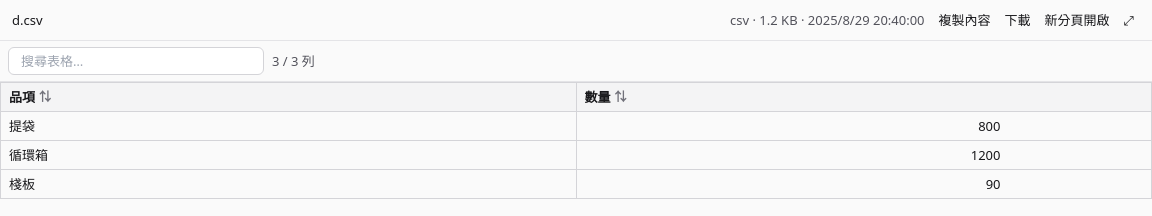
Test: FilePreview 各格式 › csv：可搜尋、可排序、數字欄右對齊
# 依「數量」排序（數字比較，不是字串比較）
Click the button "數量 ⇅" at (598, 97), box [584, 87, 1143, 107]
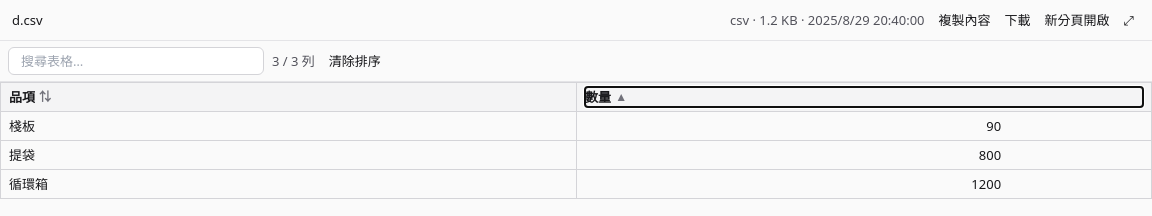
Click the button "數量 ▲" at (598, 97), box [585, 87, 1143, 107]
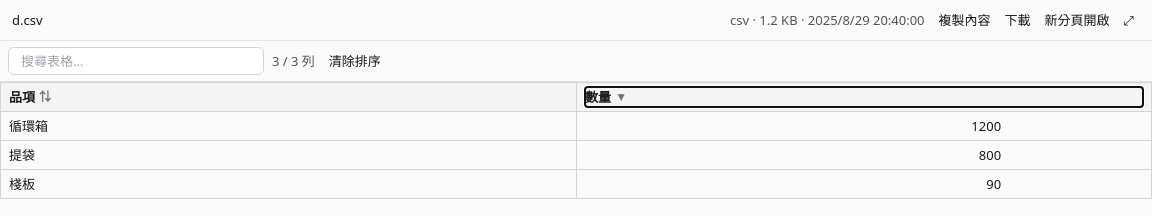
Type "循環" into the field with test id "table-search" at (136, 61), box [8, 47, 264, 75]
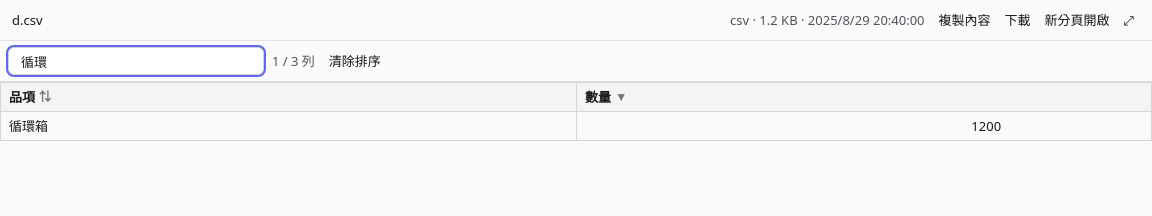
Result: the text with test id "table-count" shows "1 / 3" at [272, 52, 315, 70]
Replace the text in the field with test id "table-search" with "zzz" at (136, 61), box [8, 47, 264, 75]
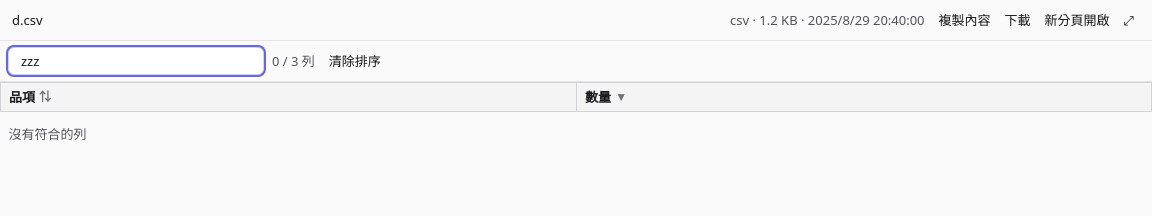
Result: the text "沒有符合的列" is shown at [0, 112, 1151, 156]
